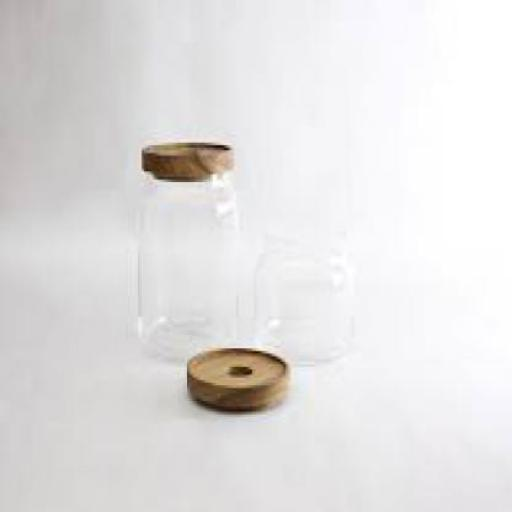glass: (134, 177, 240, 356), (254, 222, 350, 360)
